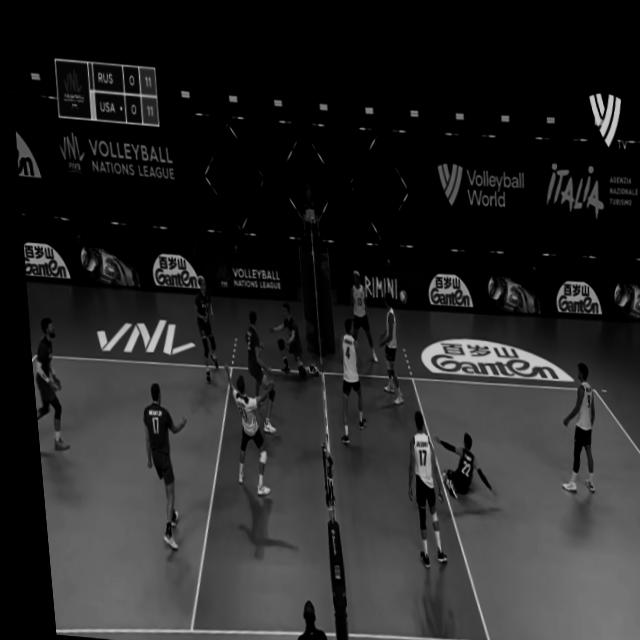player: (130, 379, 190, 552), (216, 359, 274, 495), (391, 399, 439, 556), (22, 312, 65, 455), (549, 350, 592, 490), (235, 302, 276, 431), (325, 314, 363, 442), (261, 295, 315, 375), (424, 426, 487, 493), (363, 285, 398, 395), (337, 263, 373, 361), (186, 269, 216, 383)
